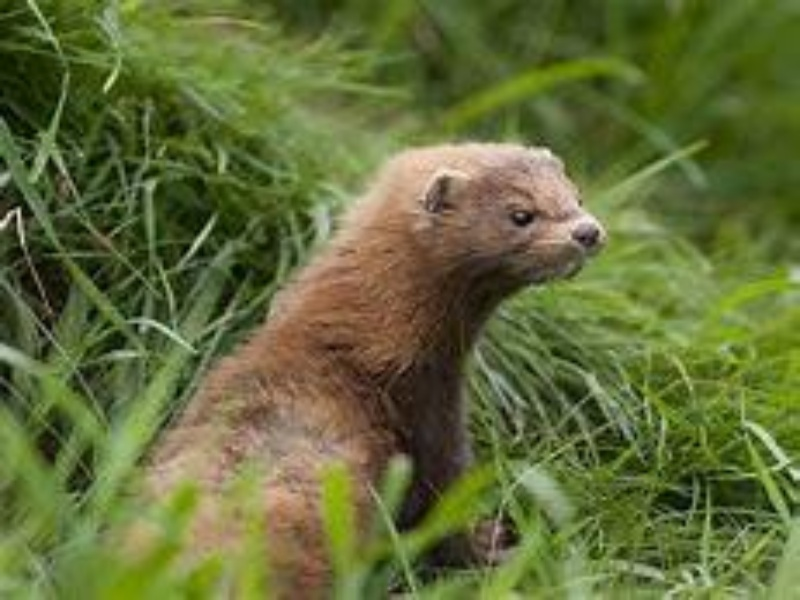minkish: (86, 137, 608, 596)
